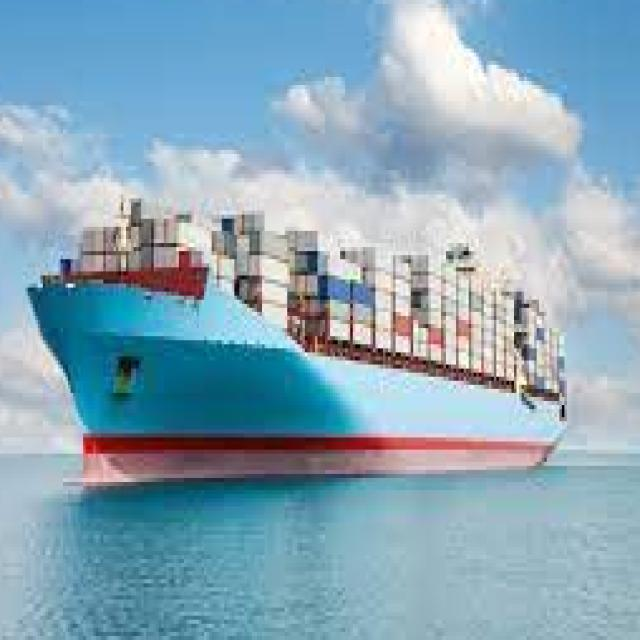cargoship: (35, 201, 570, 492)
